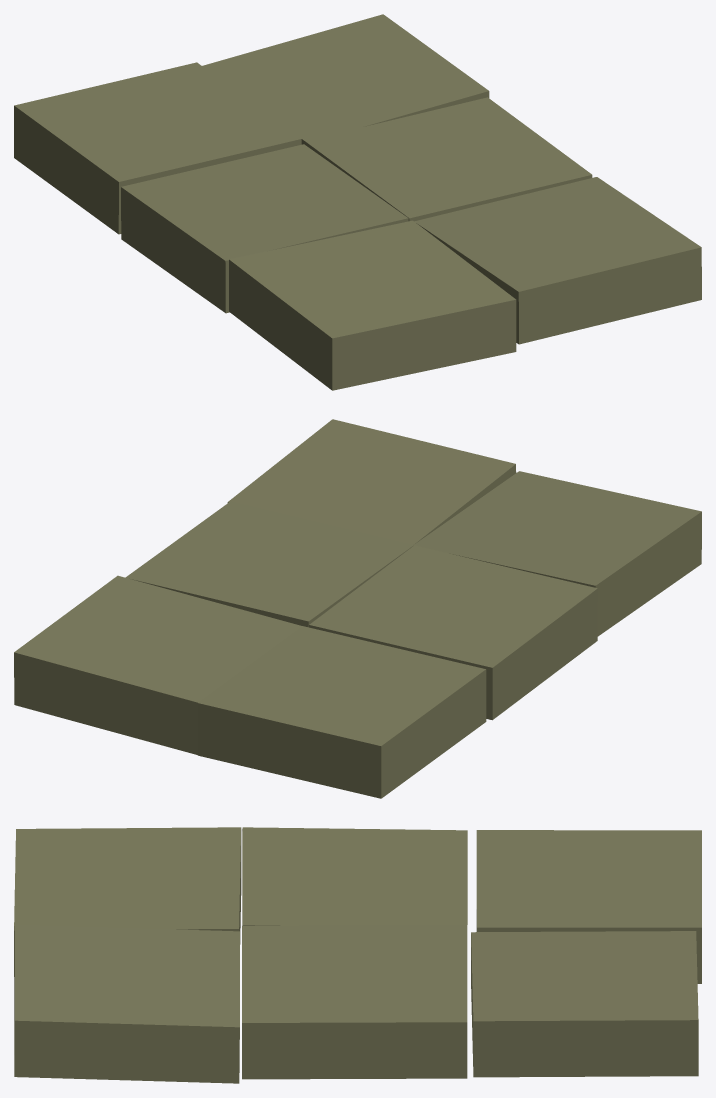
3 renders of one model, top to bottom at view 1: azimuth 30°, elevation 25°; view 2: azimuth 150°, elevation 25°; view 3: azimuth 270°, elevation 25°, orthographic. The views are drawn at different scales.
Parts seen in each view (by area): view 1: quad11, quad21, quad13, quad12, quad23, quad22; view 2: quad13, quad23, quad12, quad11, quad21, quad22; view 3: quad22, quad21, quad23, quad13, quad11, quad12.
Part boxes in pixels (x1,y1,x2,y2): quad11: [229, 220, 516, 390]; quad21: [414, 177, 701, 344]; quad13: [14, 62, 301, 234]; quad12: [121, 144, 408, 313]; quad23: [202, 14, 489, 144]; quad22: [304, 97, 592, 221]; quad13: [197, 626, 486, 798]; quad23: [14, 575, 301, 754]; quad12: [309, 545, 597, 720]; quad11: [413, 471, 701, 636]; quad21: [227, 419, 516, 544]; quad22: [125, 501, 413, 627]; quad22: [242, 925, 467, 1079]; quad21: [14, 924, 239, 1083]; quad23: [471, 931, 698, 1077]; quad13: [476, 830, 701, 983]; quad11: [14, 827, 241, 976]; quad12: [242, 827, 467, 925].
Bounding box in the file's own units: 339 × 52.03 × 506.
